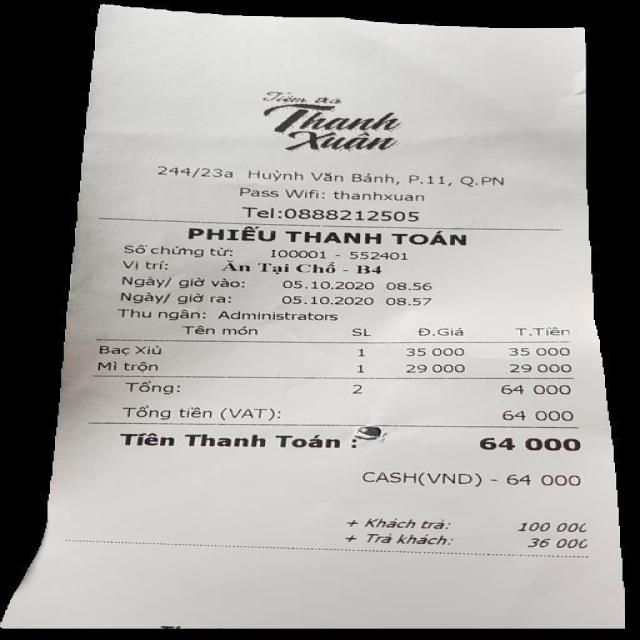Date: (277, 293, 374, 308)
Store_Name: (254, 87, 415, 154)
amount_number: (474, 434, 590, 453)
label_total: (114, 429, 341, 455)
